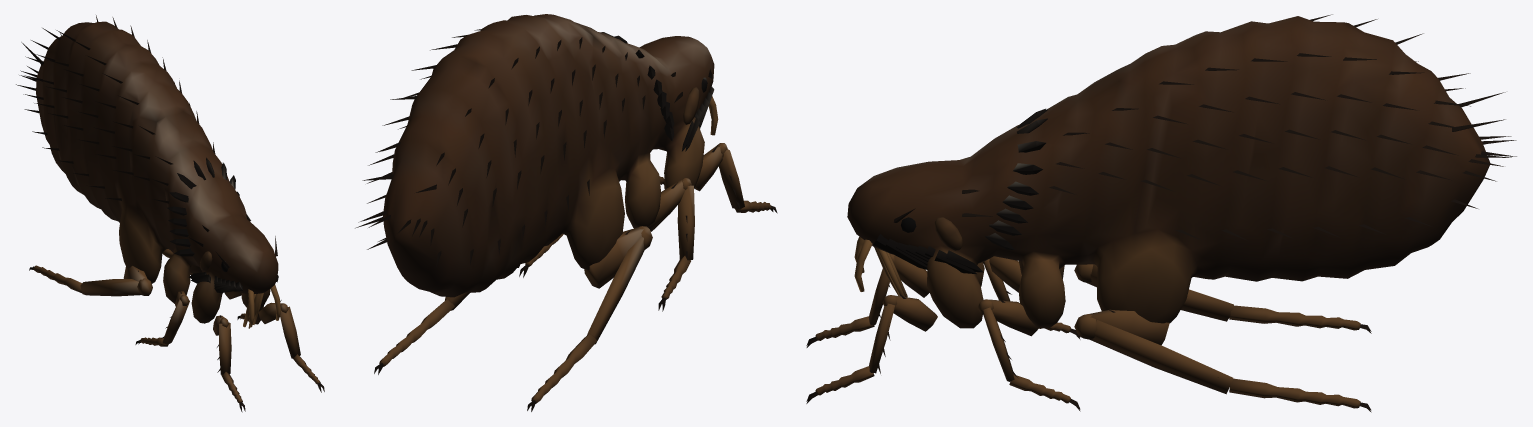
The model's file is DogFlea.fbx.
The picture shows the model from 3 angles, left to right: view 1: azimuth 30°, elevation 25°; view 2: azimuth 150°, elevation 25°; view 3: azimuth 270°, elevation 25°; orthographic projection. The views are drawn at different scales.
Parts seen in each view (by area): view 1: DogFlea; view 2: DogFlea; view 3: DogFlea.
Part boxes in pixels (x1,y1,x2,y2): DogFlea: [16, 15, 324, 412]; DogFlea: [355, 14, 777, 411]; DogFlea: [806, 14, 1516, 412].
Size of the model in its own units: 0.3174 by 0.6346 by 1.16.
